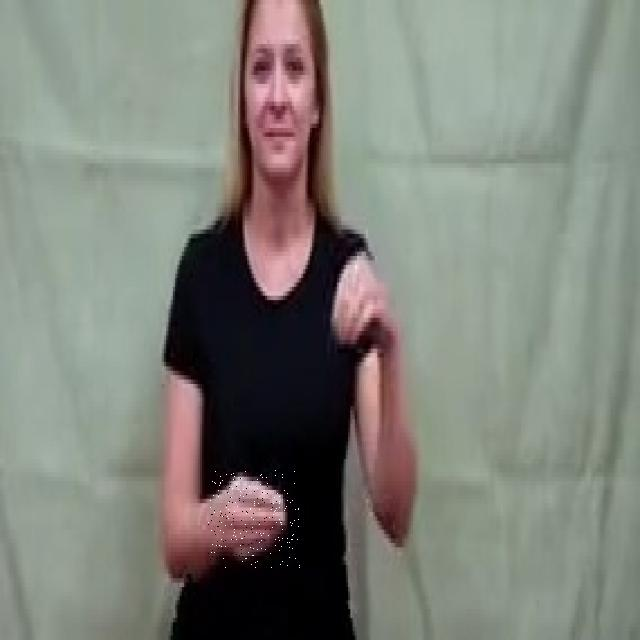ingredients: (208, 470, 300, 568), (330, 248, 402, 360)
